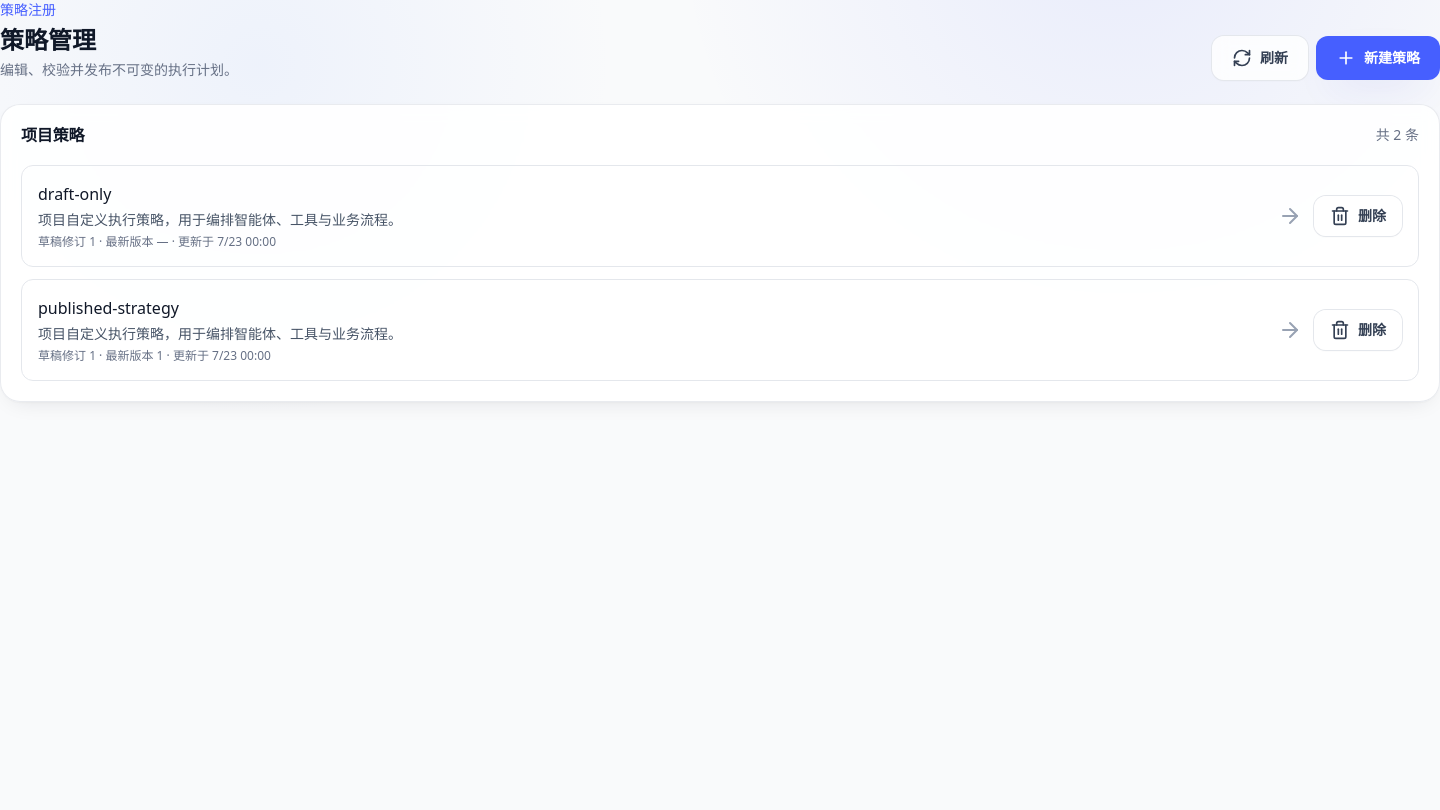
Test case: strategy delete ui › cancels without sending DELETE
The width and height of the screenshot is (1440, 810).
Click the button with aria-label "删除 draft-only".
click(1358, 216)  # box [1314, 196, 1402, 236]
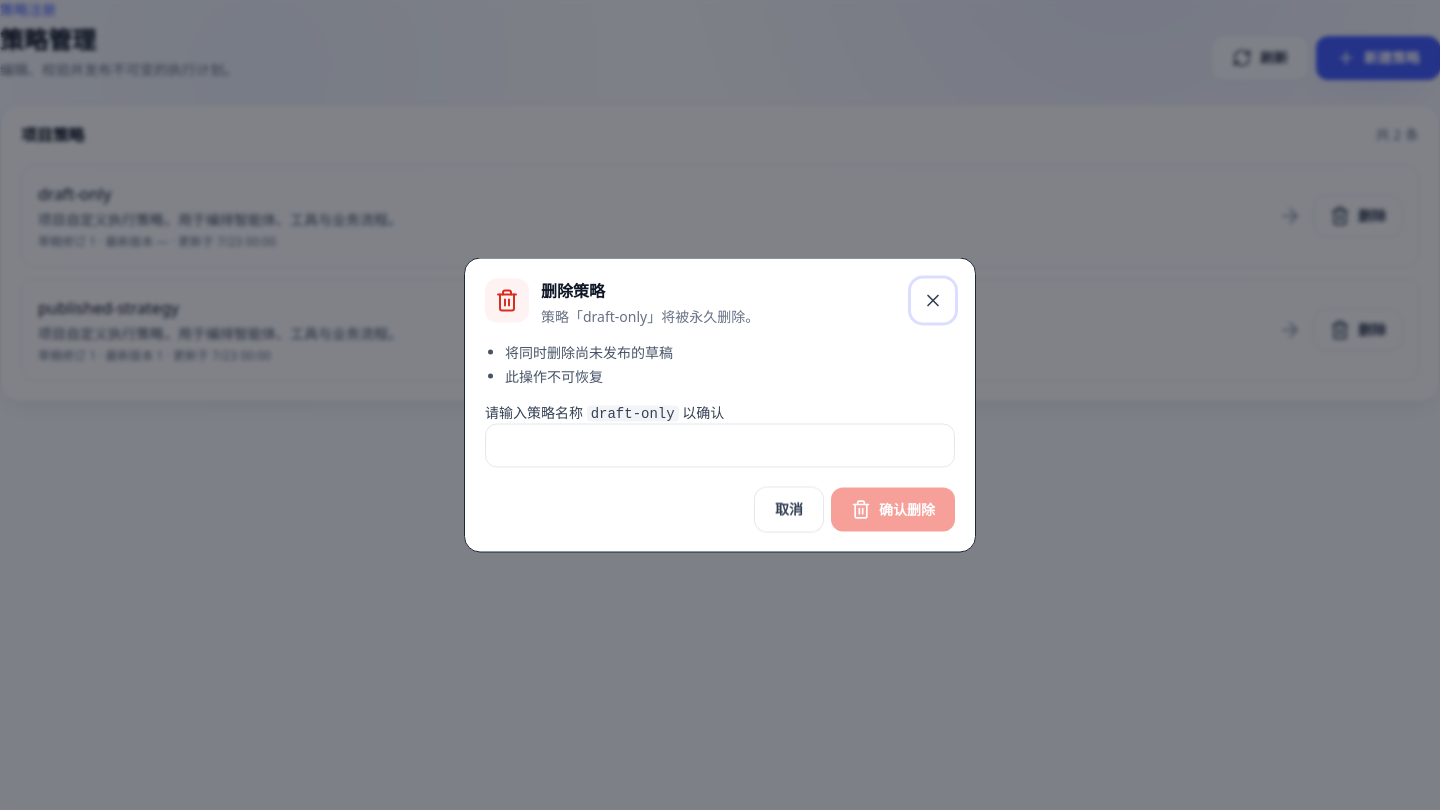
Click the button "取消".
click(789, 510)  # box [755, 488, 823, 532]
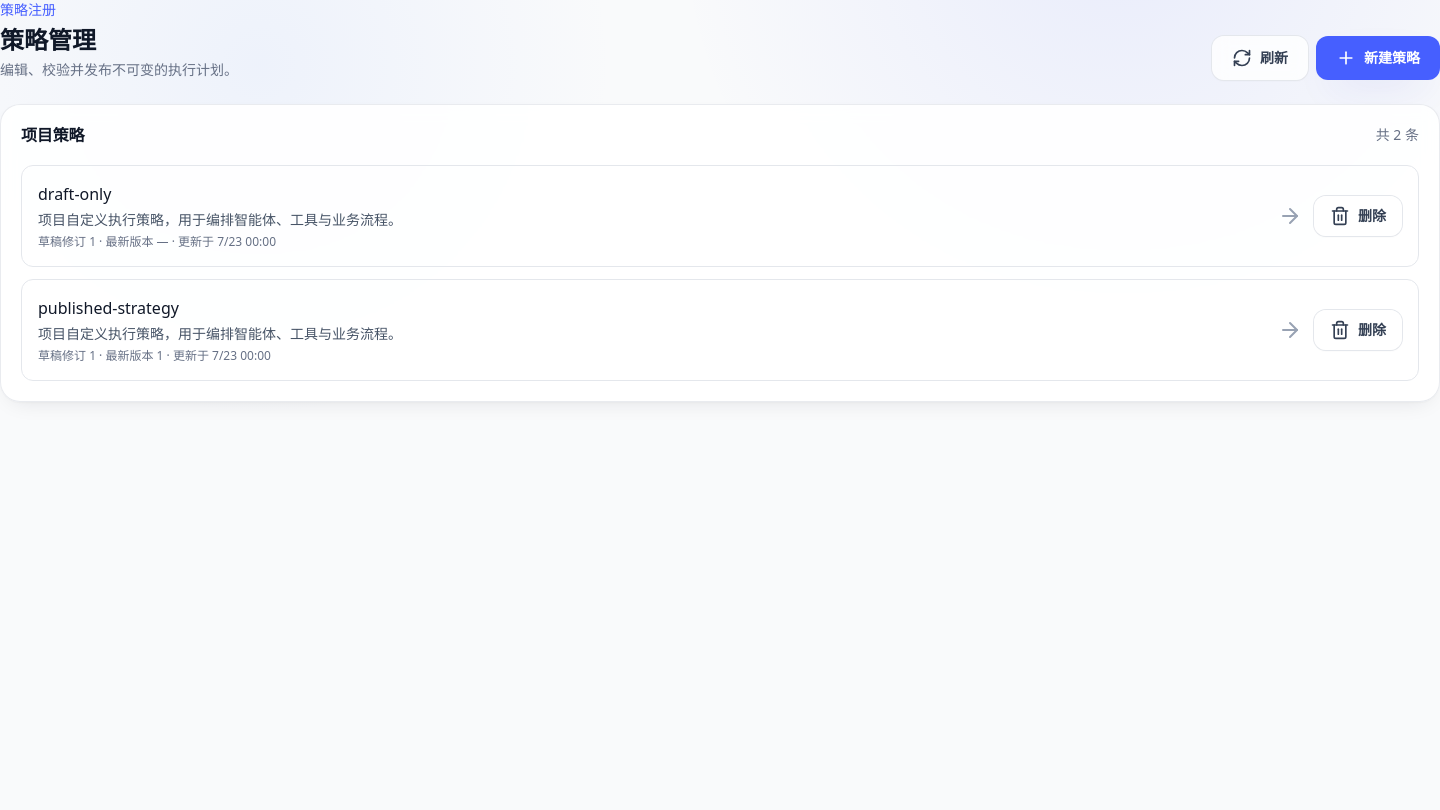
Expected: the heading "删除策略" is gone
